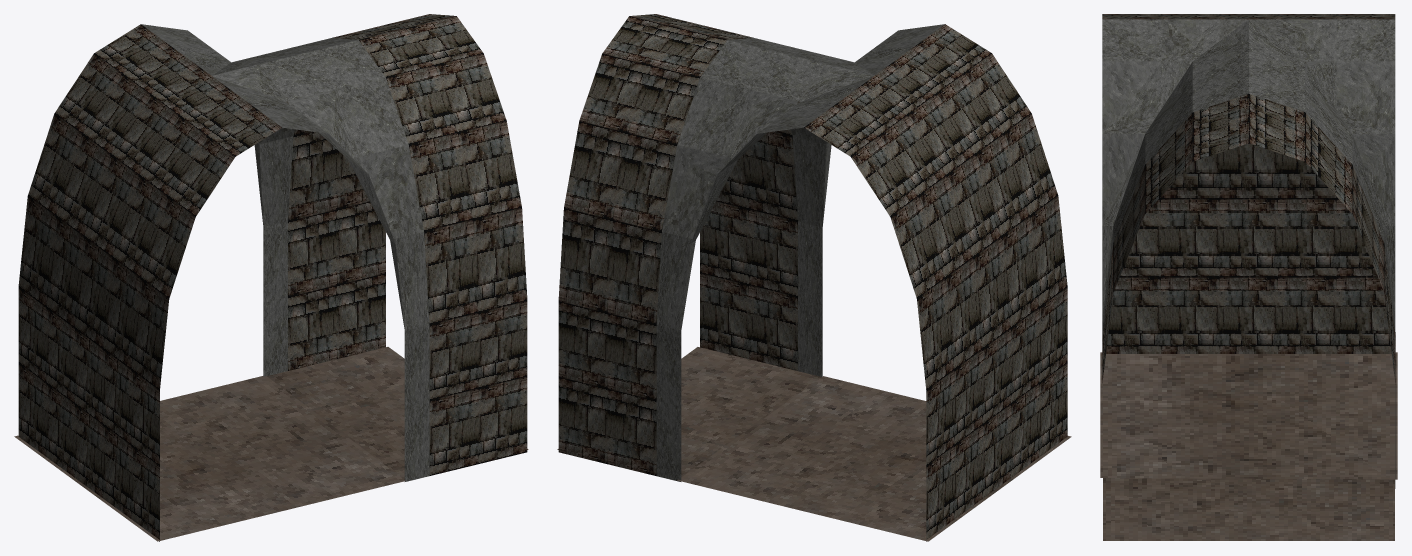
The model's file is dungeon_tee_model.gltf.
The picture shows the model from 3 angles, left to right: view 1: azimuth 30°, elevation 25°; view 2: azimuth 150°, elevation 25°; view 3: azimuth 270°, elevation 25°; orthographic projection. The views are drawn at different scales.
Visible parts, largest first — view 1: Cube.002; view 2: Cube.002; view 3: Cube.002.
Boxes of the visible parts, box(x1,y1,x2,y2) form: Cube.002: box(14, 14, 528, 541); Cube.002: box(557, 14, 1071, 541); Cube.002: box(1100, 14, 1397, 540).
Bounding box in the file's own units: 3.04 × 3 × 2.03.
4 materials, 4 textured.
